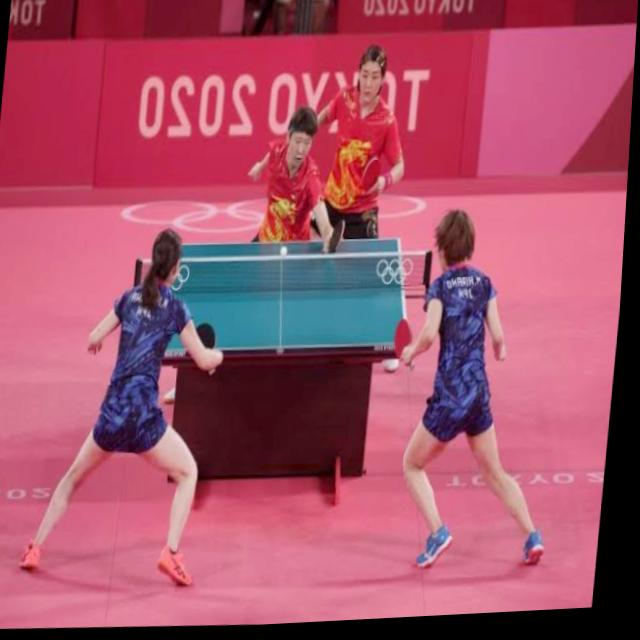TT Net: (131, 248, 434, 303)
TT Racket: (184, 313, 220, 362), (353, 148, 386, 201), (387, 309, 417, 365), (321, 211, 351, 261)
TT Table: (135, 236, 408, 353)
